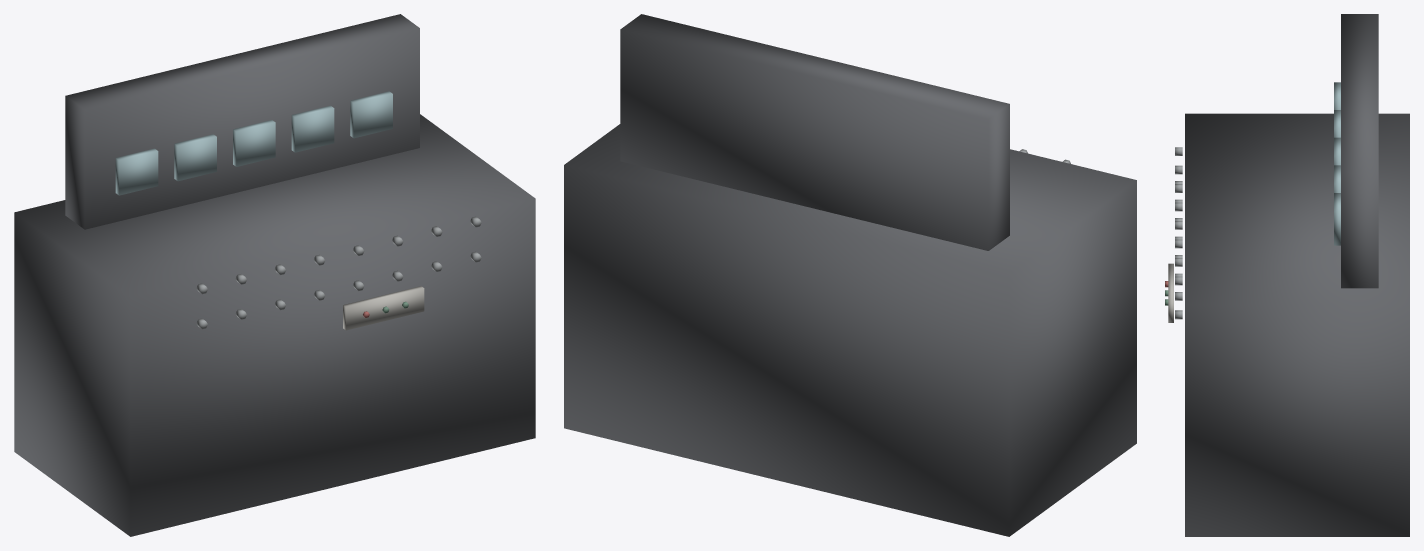
Rendered from radio_console.glb.
3 renders of one model, left to right at view 1: azimuth 30°, elevation 25°; view 2: azimuth 150°, elevation 25°; view 3: azimuth 270°, elevation 25°, orthographic. The views are drawn at different scales.
Parts seen in each view (by area): view 1: world; view 2: world; view 3: world.
Boxes of the visible parts, x1,y1,x2,y2 form: world: [14, 14, 535, 536]; world: [564, 14, 1136, 536]; world: [1165, 14, 1409, 536].
Bounding box in the file's own units: 1.45 × 1.23 × 0.7835.
